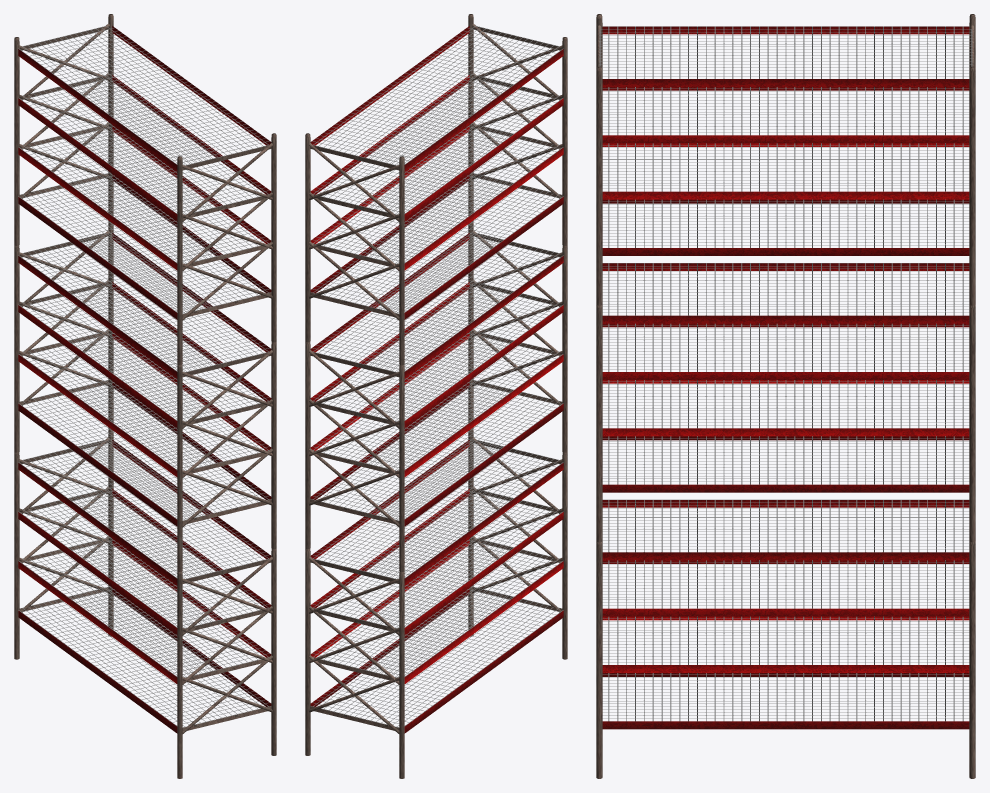
File: StorageRackSingle.fbx
The picture shows the model from 3 angles, left to right: view 1: azimuth 30°, elevation 25°; view 2: azimuth 150°, elevation 25°; view 3: azimuth 270°, elevation 25°; orthographic projection. The views are drawn at different scales.
Parts seen in each view (by area): view 1: Cylinder.003; view 2: Cylinder.003; view 3: Cylinder.003.
Part boxes in pixels (left/top/right/bottom): Cylinder.003: left=14, top=14, right=276, bottom=778; Cylinder.003: left=305, top=14, right=567, bottom=778; Cylinder.003: left=596, top=14, right=975, bottom=778.
Bounding box in the file's own units: 210 × 1260 × 610.
6 materials, 6 textured.
